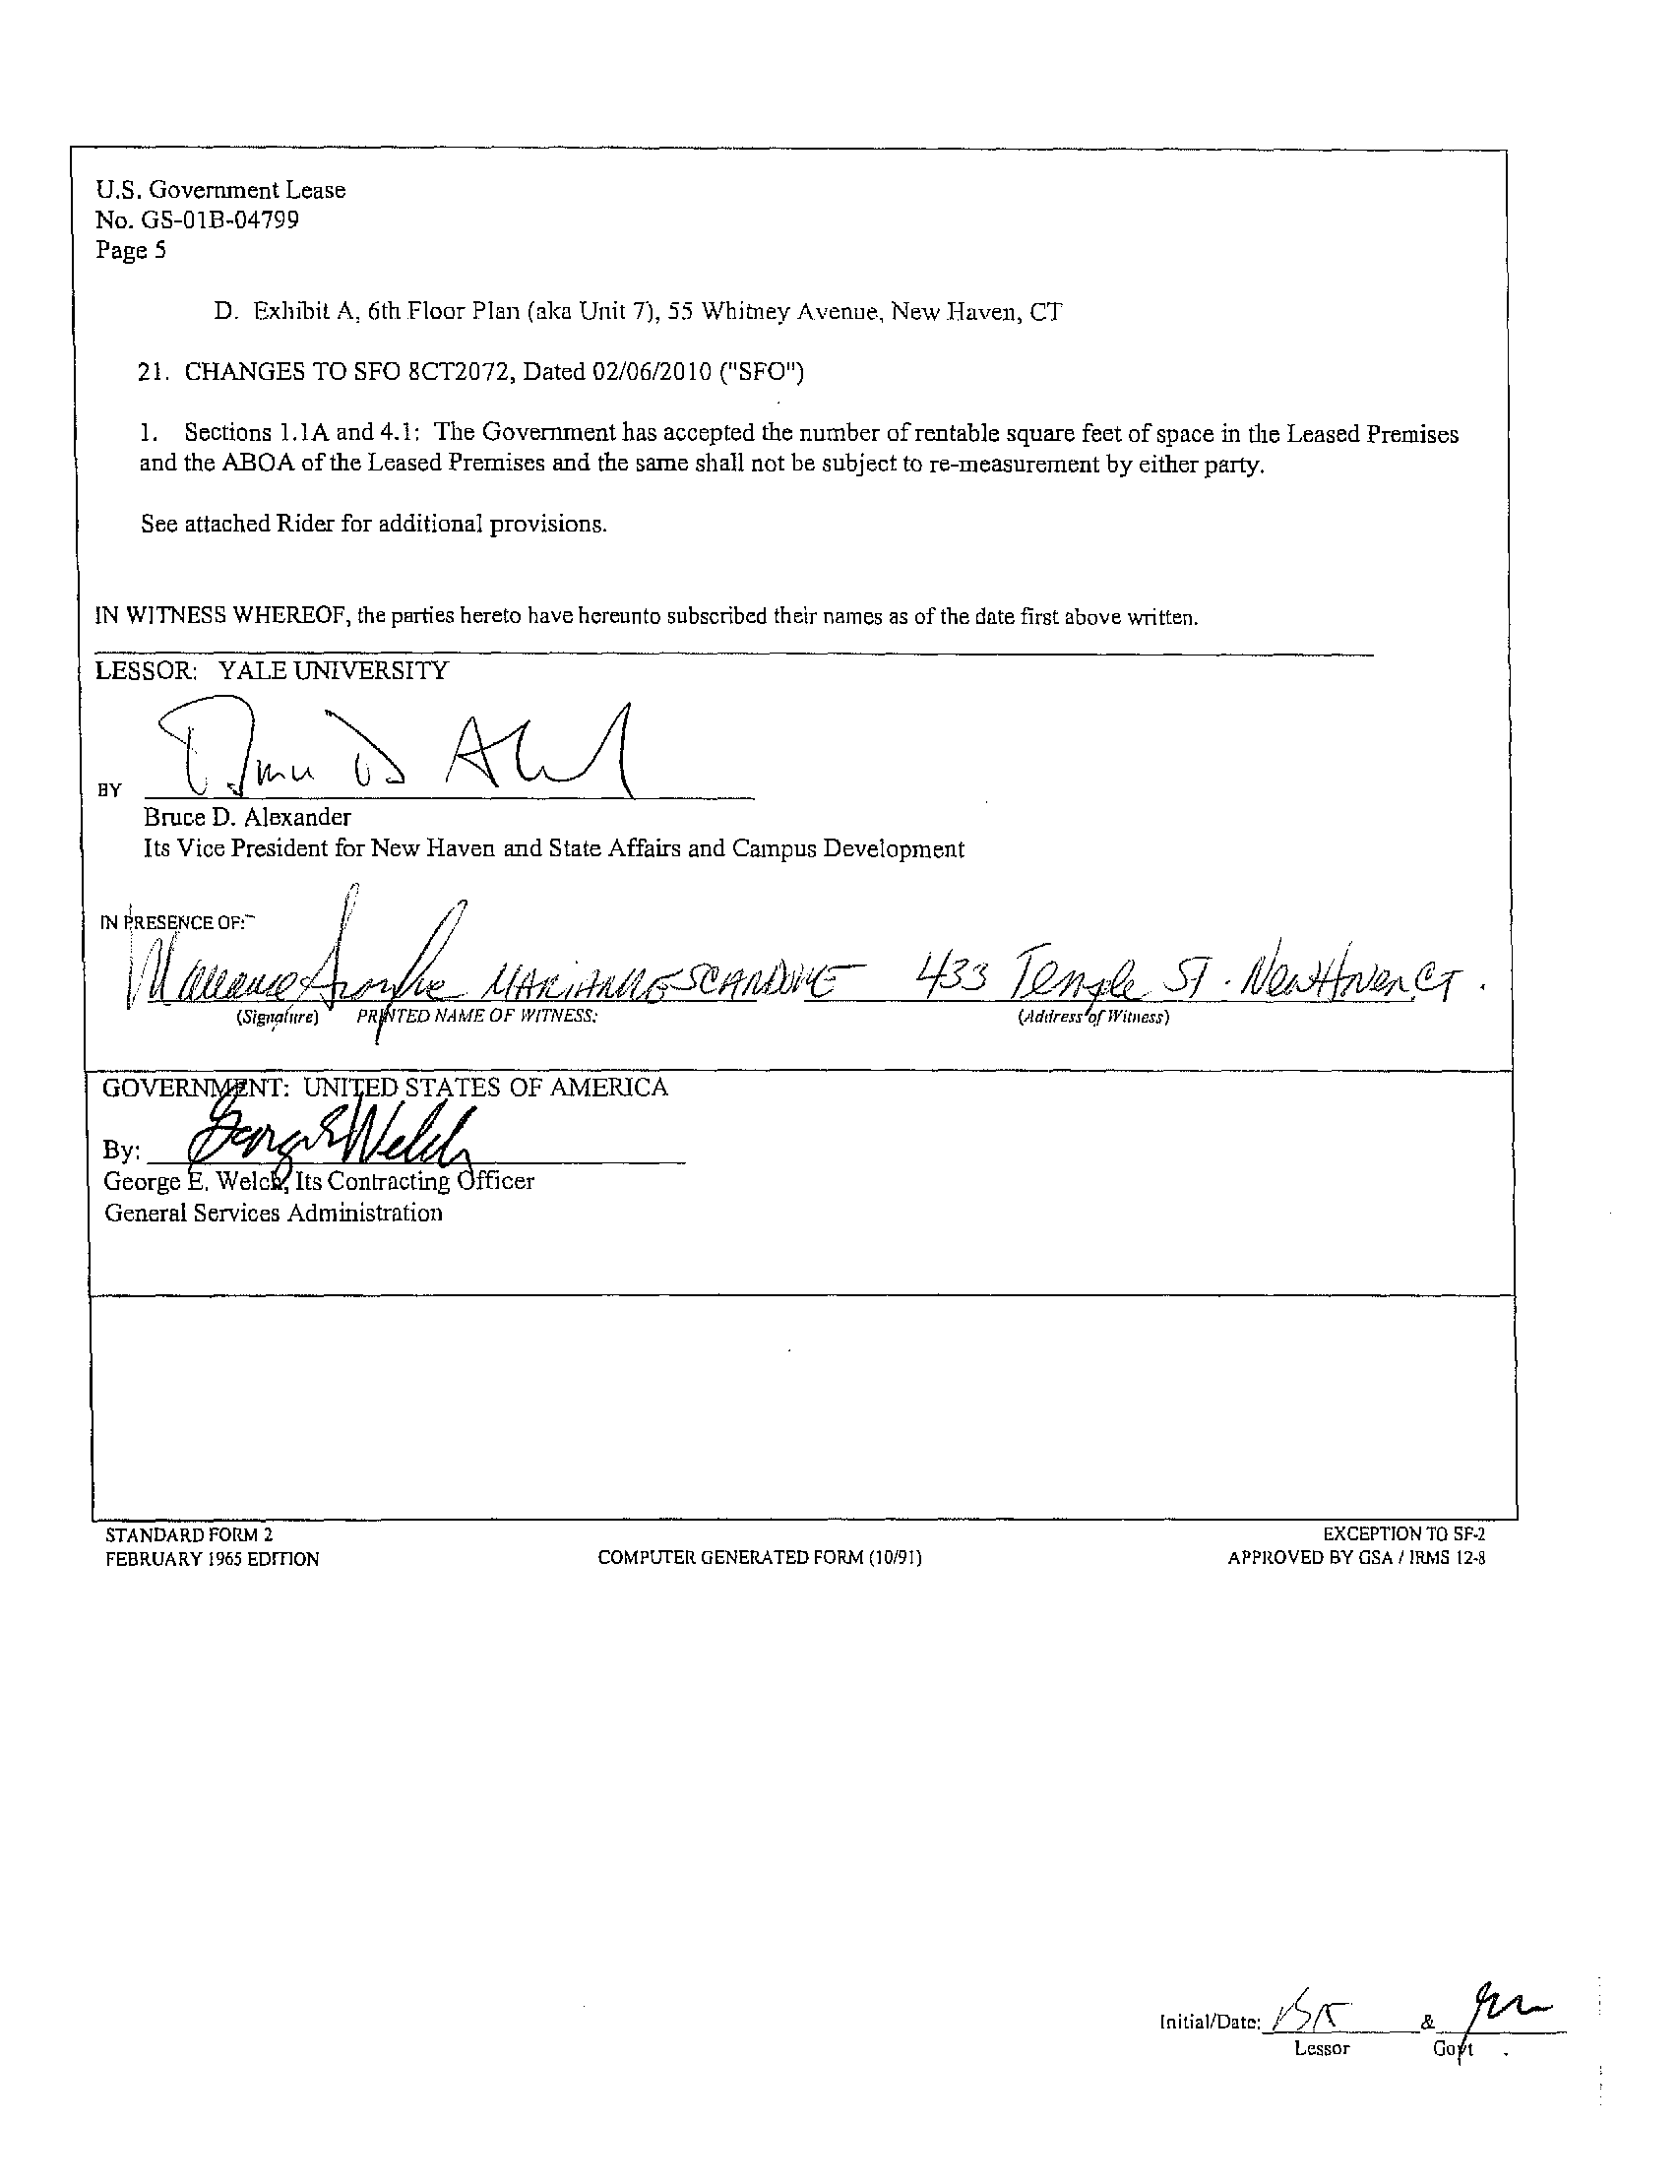handwritten: (118, 683, 669, 810), (120, 930, 854, 1018), (898, 921, 1489, 1013), (161, 1088, 514, 1170), (1444, 1956, 1555, 2052), (1267, 1965, 1361, 2038)
